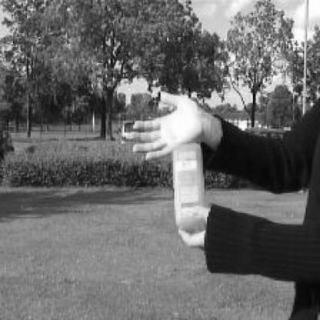other: (131, 77, 207, 232)
